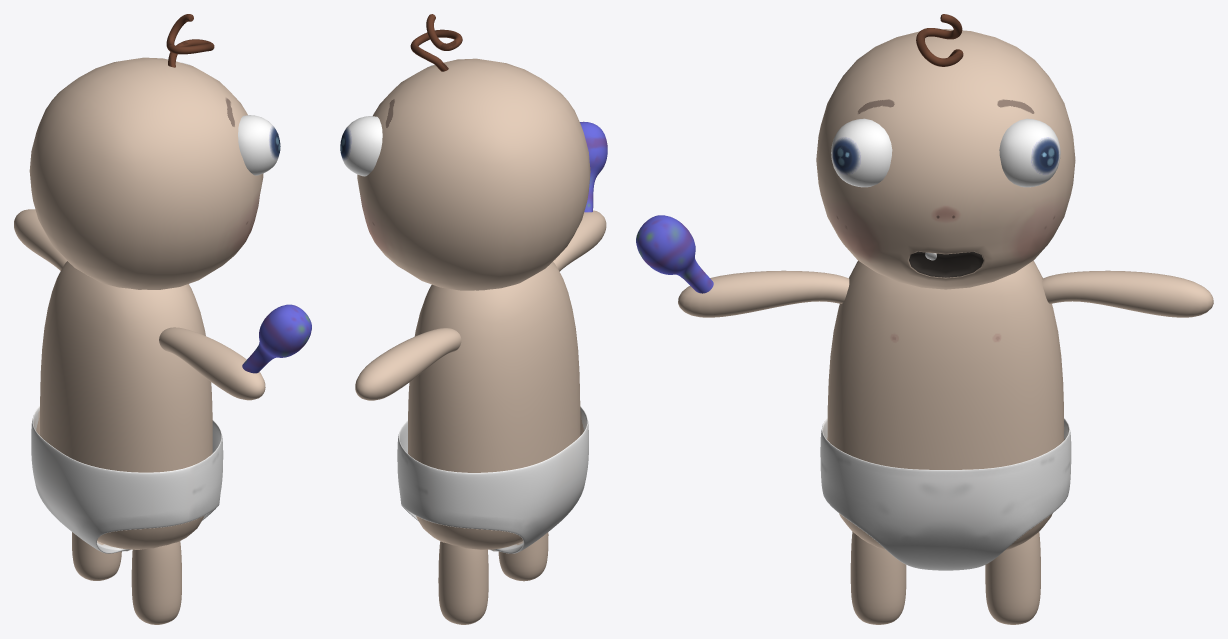
The model's file is Baby.fbx.
3 views of the same model, side by side, from view 1: azimuth 30°, elevation 25°; view 2: azimuth 150°, elevation 25°; view 3: azimuth 270°, elevation 25° (orthographic). The views are drawn at different scales.
Parts seen in each view (by area): view 1: PaintedBaby; view 2: PaintedBaby; view 3: PaintedBaby.
Part boxes in pixels (x1,y1,x2,y2): PaintedBaby: (14,14,311,624); PaintedBaby: (340,14,607,624); PaintedBaby: (636,14,1213,624).
Size of the model in its own units: 3.57 by 1.6 by 4.38.
